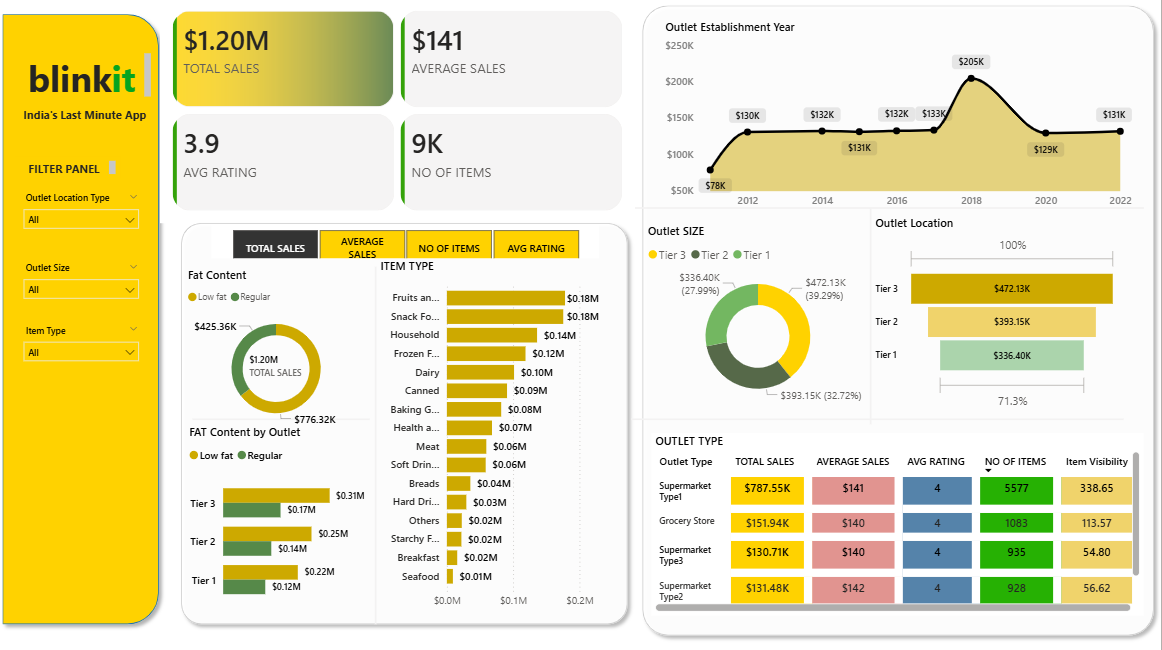

The dashboard page shown, as its layout file describes it:
{"tool":"powerbi","page":{"name":"Page 1","canvas":[1400,800],"ordinal":0},"visuals":[{"type":"shape","box":[0,10.5,205.6,750.4],"z":0},{"type":"textbox","box":[24,61.5,168.1,64.5],"z":1000},{"type":"textbox","box":[24,126.1,168.1,28.5],"z":2000},{"type":"cardVisual","fields":{"Data":["BlinkIT Grocery Data.TOTAL SALES","BlinkIT Grocery Data.AVERAGE SALES","BlinkIT Grocery Data.AVG RATING","BlinkIT Grocery Data.NO OF ITEMS"]},"box":[198.1,0,570.3,270.2],"z":3000},{"type":"shape","box":[214.6,261.2,553.8,499.8],"z":4000},{"type":"slicer","fields":{"Values":["MATRICS.MATRICS"]},"box":[259.6,271.7,465.3,40.5],"z":5000},{"type":"cardVisual","fields":{"Data":["BlinkIT Grocery Data.TOTAL SALES"]},"box":[276.2,406.7,124.6,70.5],"z":6000},{"type":"clusteredBarChart","title":"FAT Content by Outlet","fields":{"Y":["BlinkIT Grocery Data.TOTAL SALES"],"Category":["BlinkIT Grocery Data.Outlet Location Type"],"Series":["BlinkIT Grocery Data.Item Fat Content"]},"box":[228.1,511.8,220.6,229.6],"z":7000},{"type":"shape","box":[237.1,499.8,213.1,12],"z":8000},{"type":"shape","box":[436.8,322.7,40.5,429.2],"z":9000},{"type":"barChart","title":"ITEM TYPE","fields":{"Y":["BlinkIT Grocery Data.TOTAL SALES"],"Category":["BlinkIT Grocery Data.Item Type"]},"box":[457.8,312.2,289.7,429.2],"z":10000},{"type":"shape","box":[768.4,0,631.9,774.4],"z":11000},{"type":"lineChart","title":" Outlet Establishment Year","fields":{"Category":["BlinkIT Grocery Data.Outlet Establishment Year"],"Y":["BlinkIT Grocery Data.TOTAL SALES"]},"box":[800,25.5,570.3,235.6],"z":12000},{"type":"shape","box":[768.4,226.6,610.9,51],"z":13000},{"type":"donutChart","title":"Fat Content","fields":{"Y":["BlinkIT Grocery Data.TOTAL SALES"],"Category":["BlinkIT Grocery Data.Item Fat Content"]},"box":[226.6,322.7,222.1,199.6],"z":14000},{"type":"donutChart","title":" Outlet SIZE","fields":{"Category":["BlinkIT Grocery Data.Outlet Location Type"],"Y":["BlinkIT Grocery Data.TOTAL SALES"]},"box":[778.9,270.2,274.7,225.1],"z":15000},{"type":"shape","box":[1028.1,252.1,46.5,259.6],"z":16000},{"type":"funnel","title":" Outlet Location ","fields":{"Category":["BlinkIT Grocery Data.Outlet Location Type"],"Y":["BlinkIT Grocery Data.TOTAL SALES"]},"box":[1052.1,261.2,300.2,238.6],"z":17000},{"type":"shape","box":[763.9,477.3,591.3,57],"z":18000},{"type":"pivotTable","title":"OUTLET TYPE","fields":{"Rows":["BlinkIT Grocery Data.Outlet Type"],"Values":["BlinkIT Grocery Data.TOTAL SALES","BlinkIT Grocery Data.AVERAGE SALES","BlinkIT Grocery Data.AVG RATING","BlinkIT Grocery Data.NO OF ITEMS","Sum(BlinkIT Grocery Data.Item Visibility)"]},"box":[788,522.3,591.3,219.1],"z":19000},{"type":"slicer","fields":{"Values":["BlinkIT Grocery Data.Outlet Location Type"]},"box":[24,228.1,159.1,84],"z":20000},{"type":"slicer","fields":{"Values":["BlinkIT Grocery Data.Outlet Size"]},"box":[24,312.2,159.1,84],"z":21000},{"type":"slicer","fields":{"Values":["BlinkIT Grocery Data.Item Type"]},"box":[24,387.2,159.1,84],"z":22000},{"type":"textbox","box":[24,190.6,126.1,25.5],"z":24000}]}

Visuals, with their boxes in screenshot pixels (x1, y1, x2, y2), scaled from the page's 1400x800 canvas onto the 1162x650 screenshot:
shape: box(0, 9, 171, 618)
textbox: box(20, 50, 159, 102)
textbox: box(20, 102, 159, 126)
cardVisual - BlinkIT Grocery Data.TOTAL SALES x BlinkIT Grocery Data.AVERAGE SALES: box(164, 0, 638, 220)
shape: box(178, 212, 638, 618)
slicer - MATRICS.MATRICS: box(215, 221, 602, 254)
cardVisual - BlinkIT Grocery Data.TOTAL SALES: box(229, 330, 333, 388)
"FAT Content by Outlet" clusteredBarChart: box(189, 416, 372, 602)
shape: box(197, 406, 374, 416)
shape: box(363, 262, 396, 611)
"ITEM TYPE" barChart: box(380, 254, 620, 602)
shape: box(638, 0, 1161, 629)
" Outlet Establishment Year" lineChart: box(664, 21, 1137, 212)
shape: box(638, 184, 1145, 226)
"Fat Content" donutChart: box(188, 262, 372, 424)
" Outlet SIZE" donutChart: box(646, 220, 874, 402)
shape: box(853, 205, 892, 416)
" Outlet Location " funnel: box(873, 212, 1122, 406)
shape: box(634, 388, 1125, 434)
"OUTLET TYPE" pivotTable: box(654, 424, 1145, 602)
slicer - BlinkIT Grocery Data.Outlet Location Type: box(20, 185, 152, 254)
slicer - BlinkIT Grocery Data.Outlet Size: box(20, 254, 152, 322)
slicer - BlinkIT Grocery Data.Item Type: box(20, 315, 152, 383)
textbox: box(20, 155, 125, 176)
